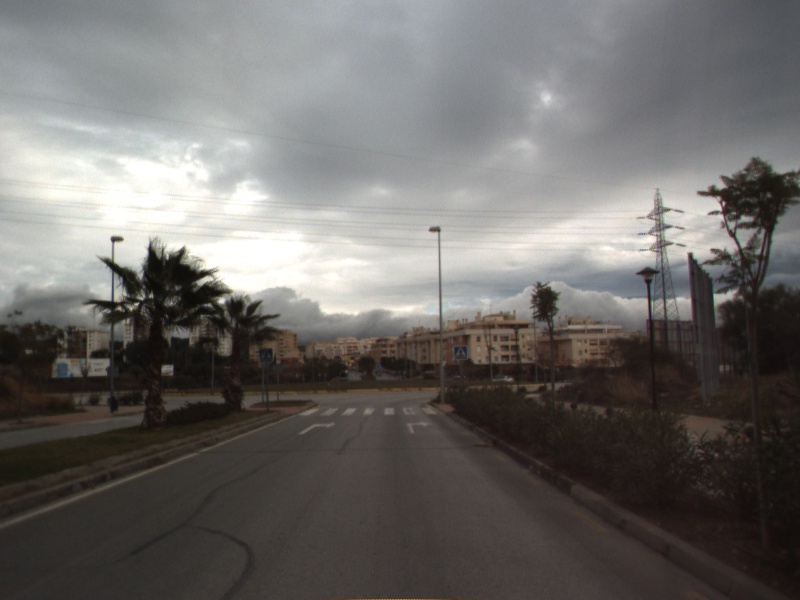RIGHT: (297, 419, 338, 436), (405, 419, 432, 435)
